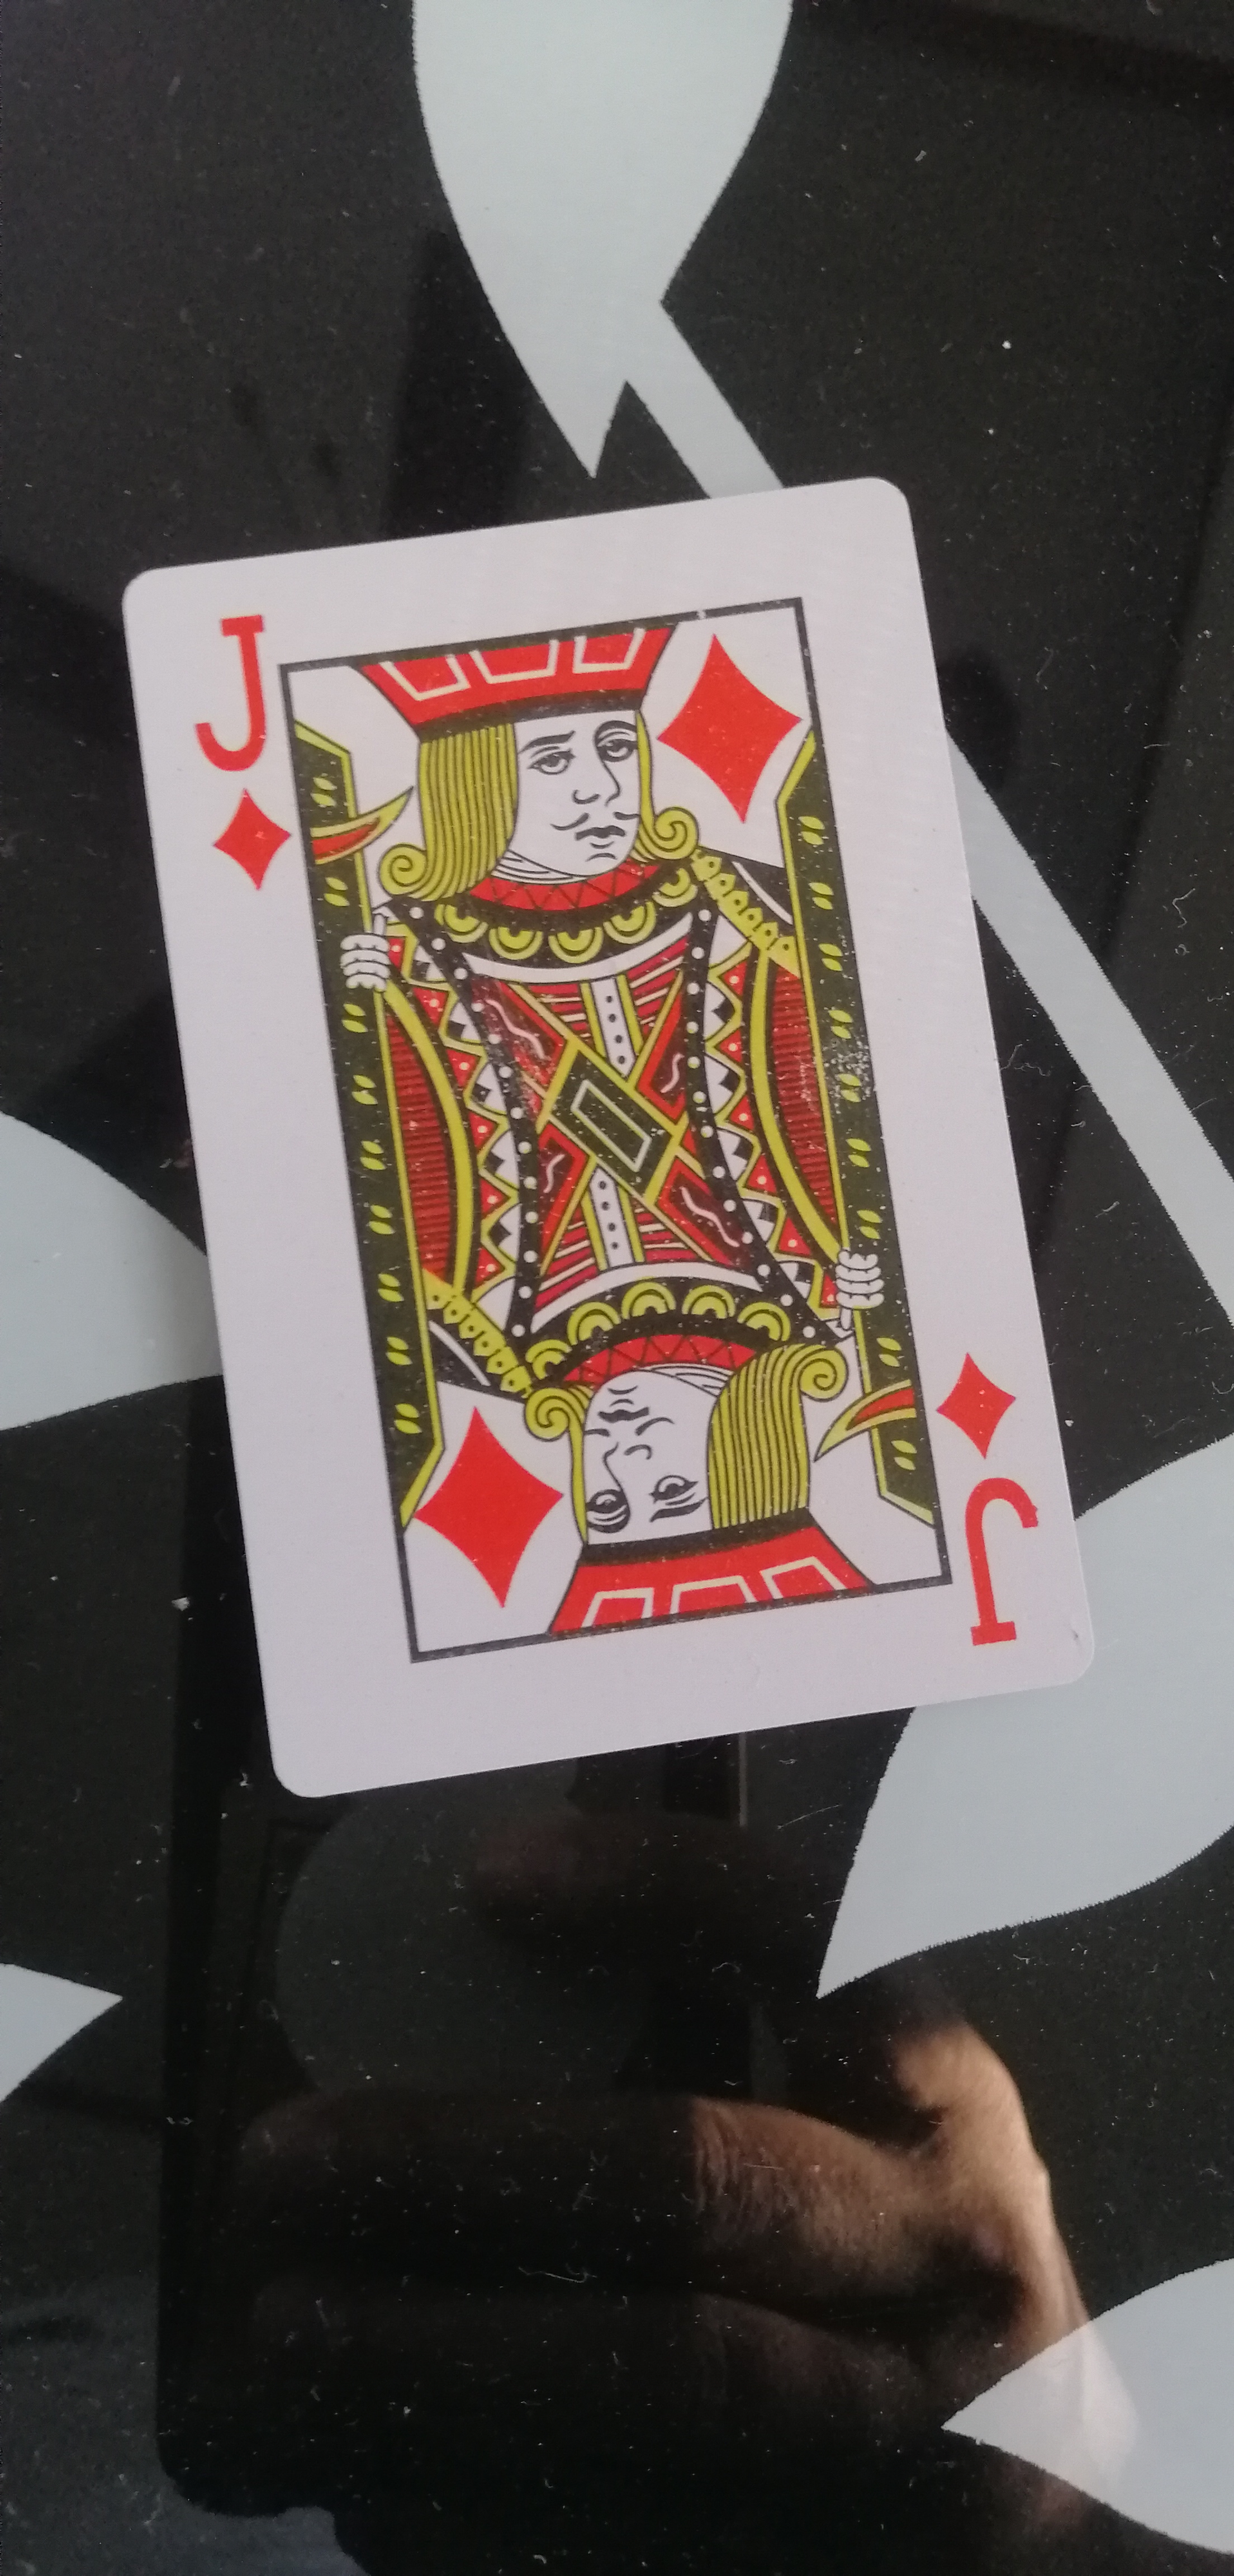jack: (82, 447, 1134, 1827)
